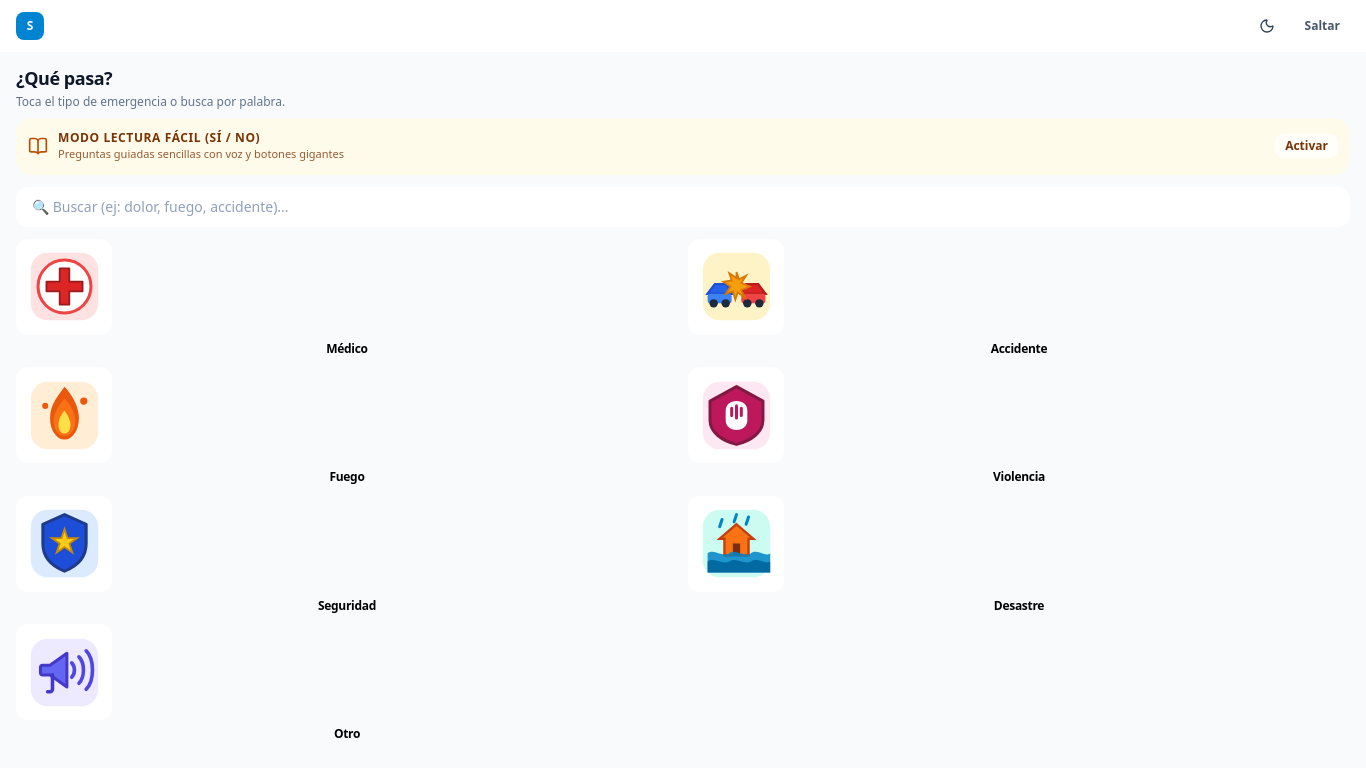
it: UI / UX: Tipification with Pictograms and Confirmation Flow › renders incident categories as pictograms and debounces search
Expected: the heading "¿Qué pasa?" is shown, [16,66,112,90]
Expected: the button "Médico" is shown, [16,238,678,357]
In the search field named "Buscar pictograma de emergencia": (683, 206) [16,186,1350,226], type "fuego"
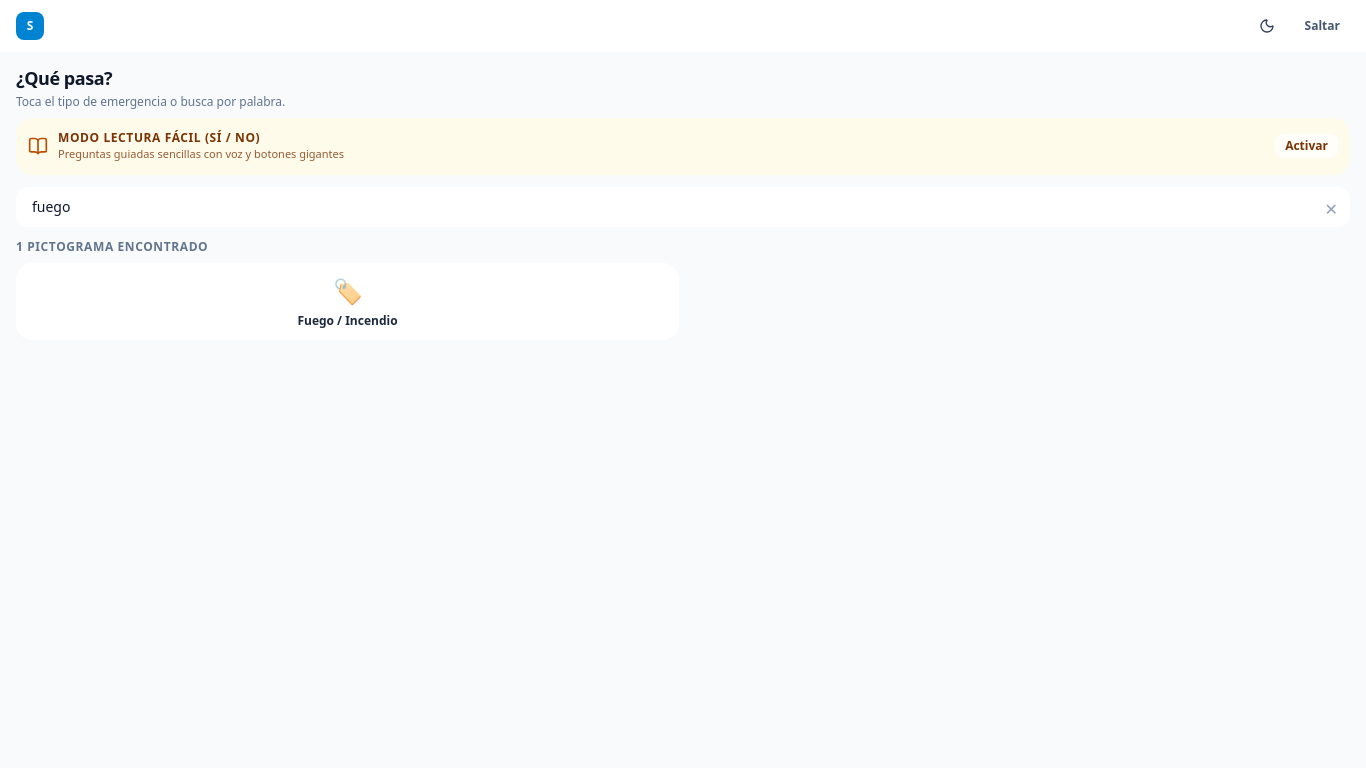
Result: the text "1 pictograma encontrado" is shown at [16,238,208,254]
Result: the button "🏷️ Fuego / Incendio" is shown at [16,262,679,340]
